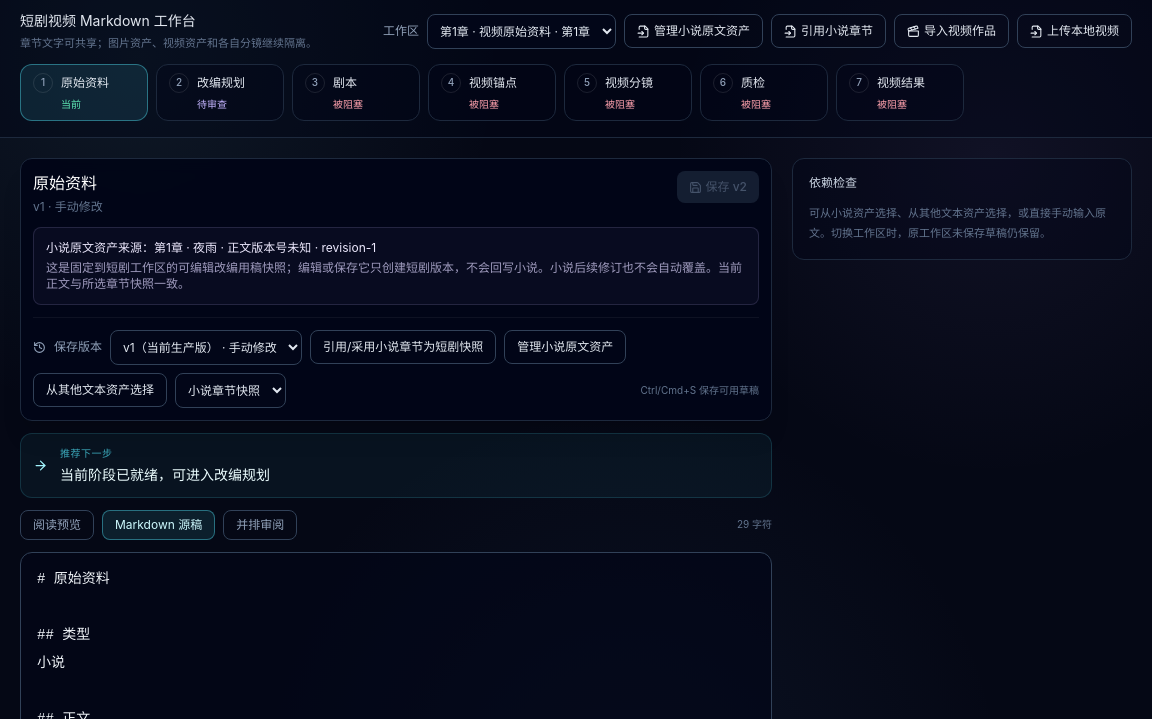
Test: VideoMarkdownWorkspace editing loop › directly saves a reviewed optimization and its existing downstream chain
Click the tab "2 改编规划 待审查" at (220, 92), box [156,64,284,120]
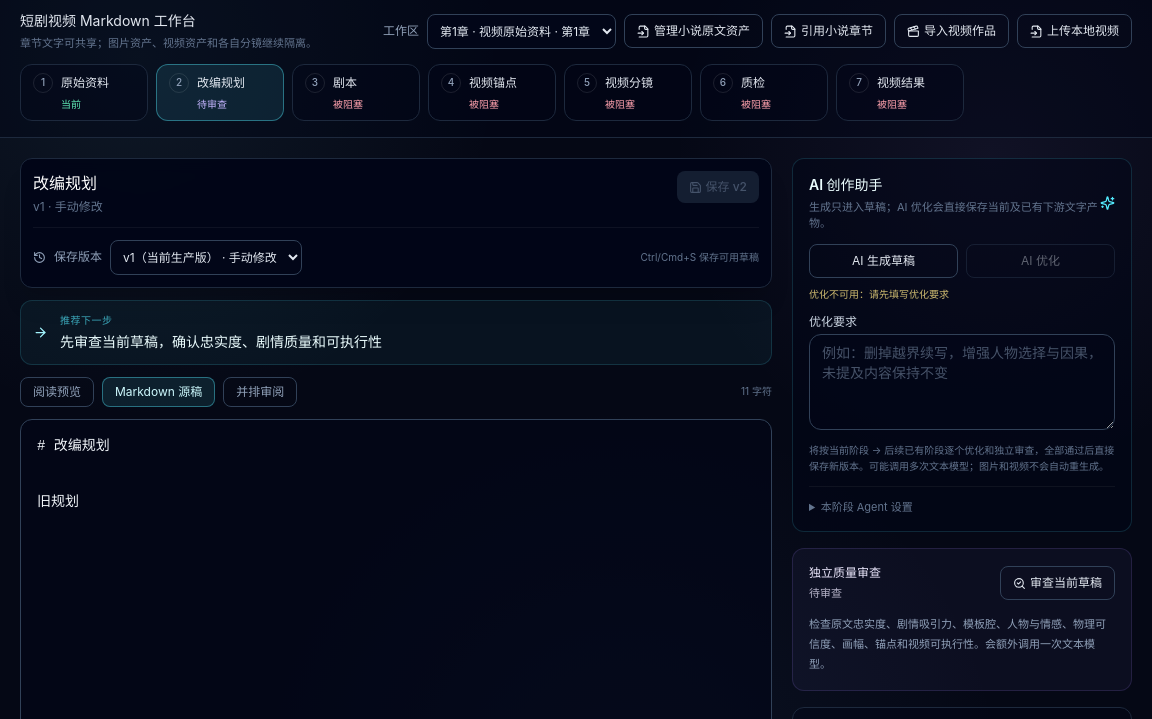
Type "加强因果，但保持人物关系" into the text box named "AI 优化要求" at (962, 382), box [809,334,1115,430]
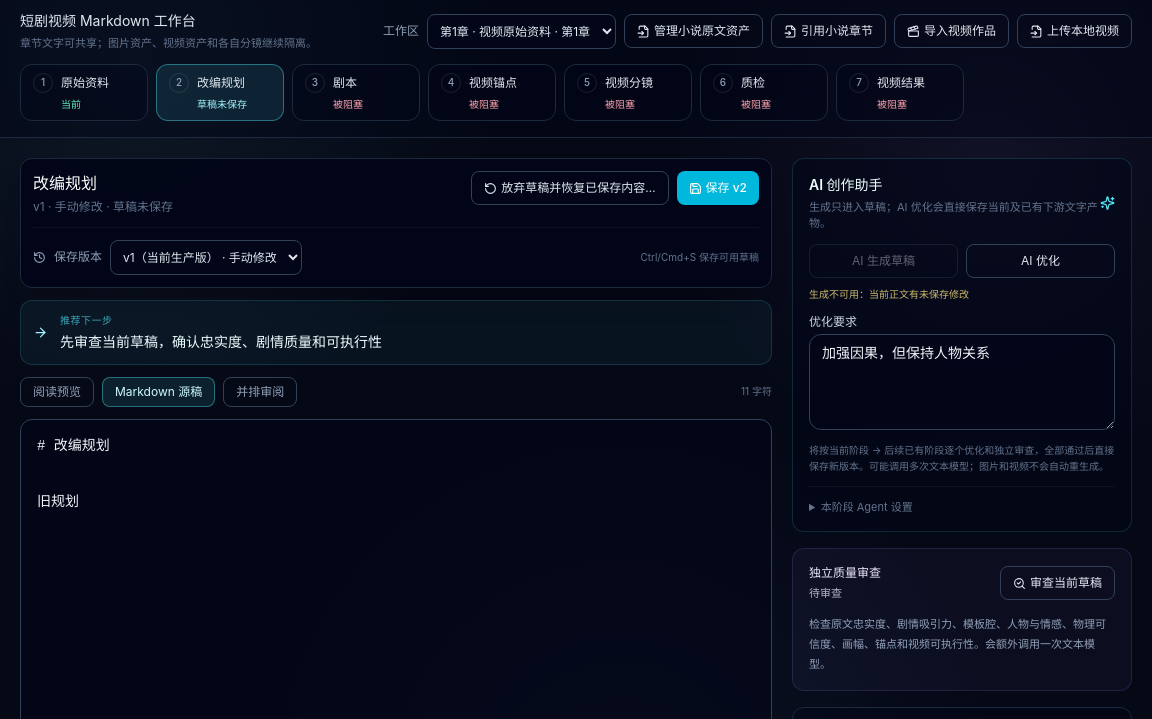
Click the button "AI 优化" at (1040, 260), box [966,244,1115,278]
(page scrolled)
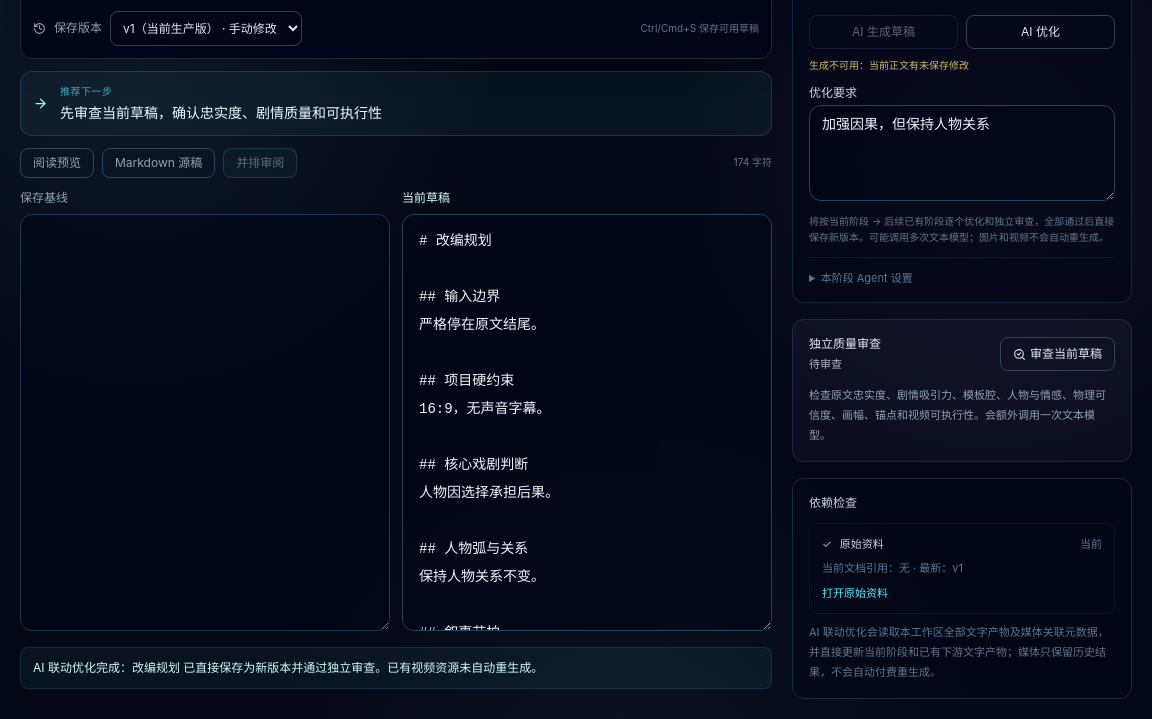
Now the message shows "已直接保存为新版本", box [33,660,543,675]
